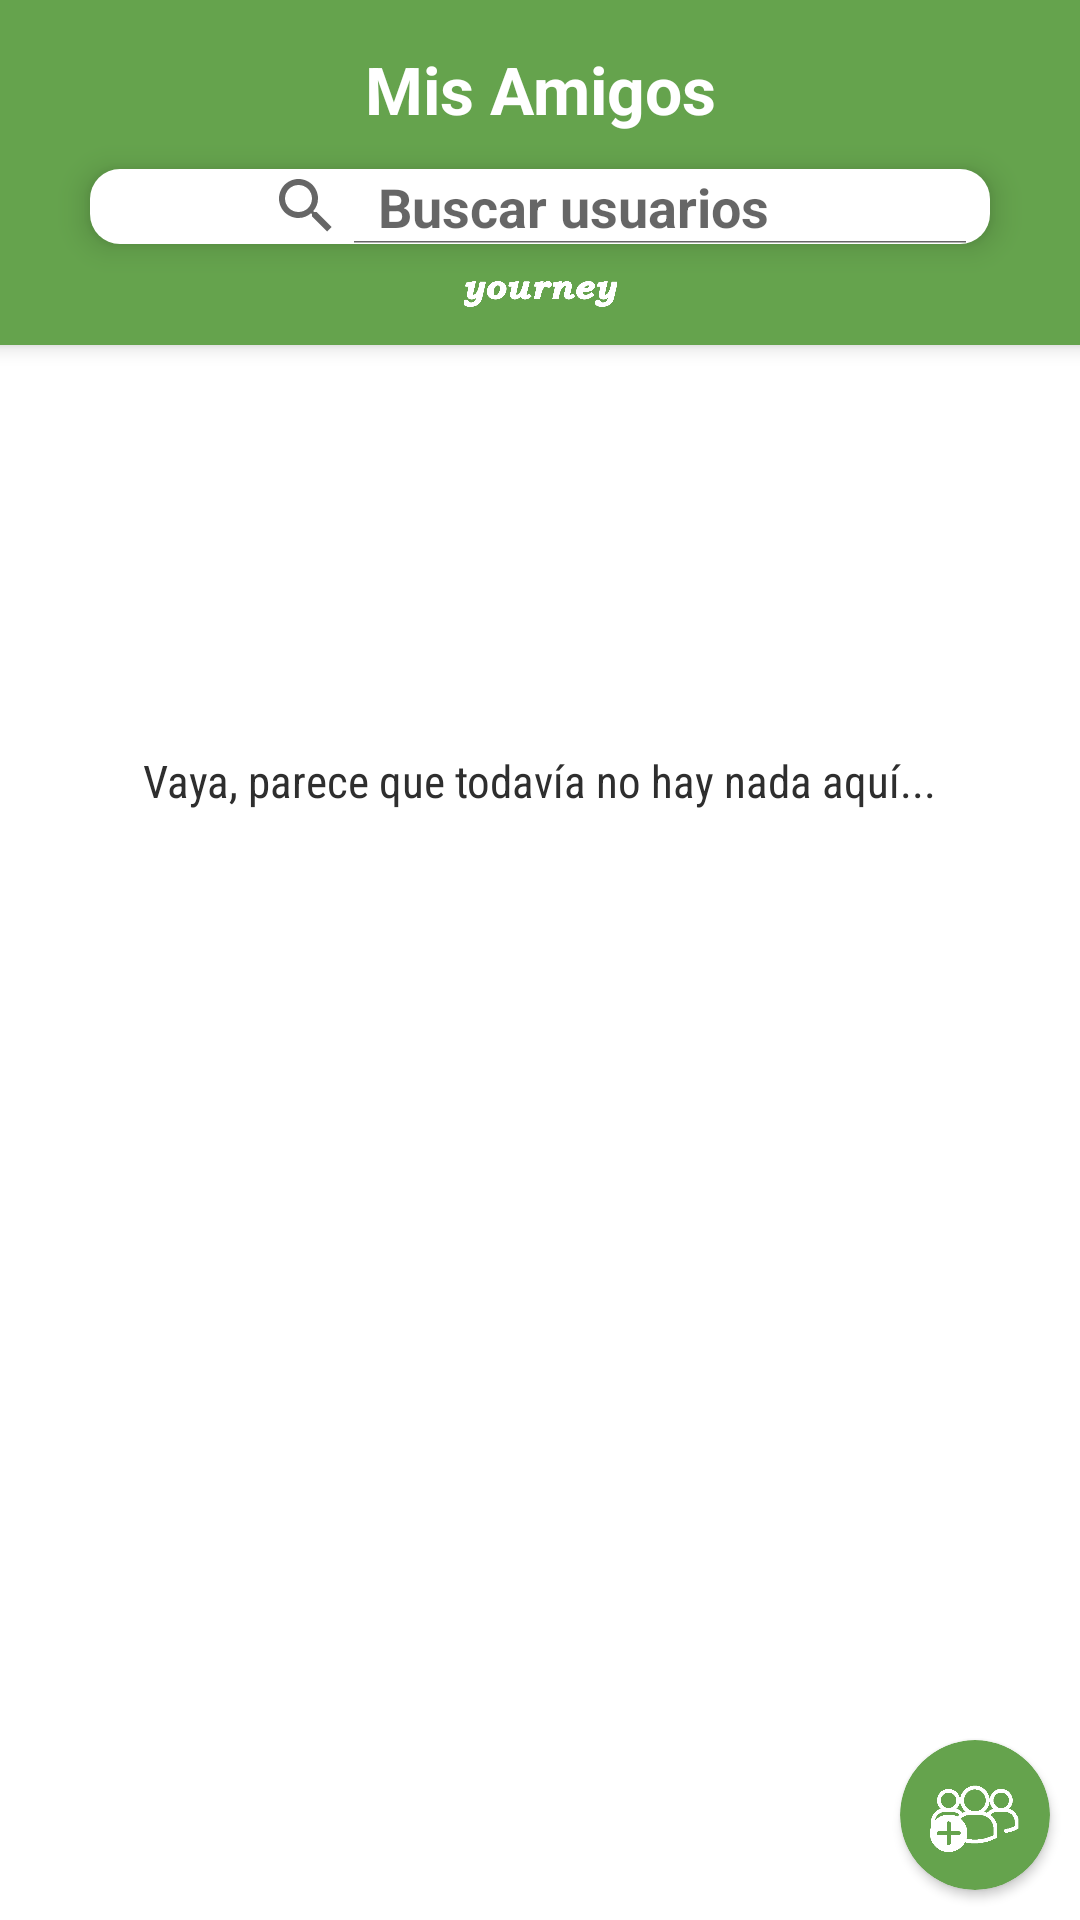

Point at icon controls on the screen. Image size 1080 × 1920, points as (x,y).
annadiramigo: (975,1815)
